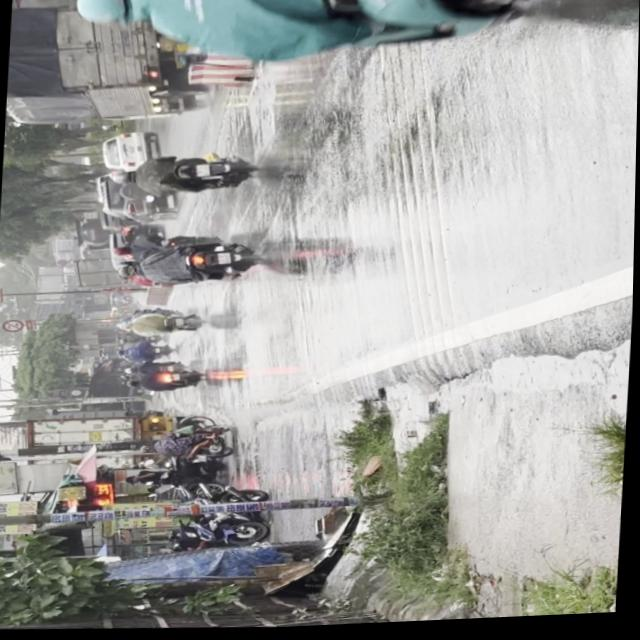helmet: (69, 0, 149, 29)
licenseplate: (63, 0, 640, 89)
